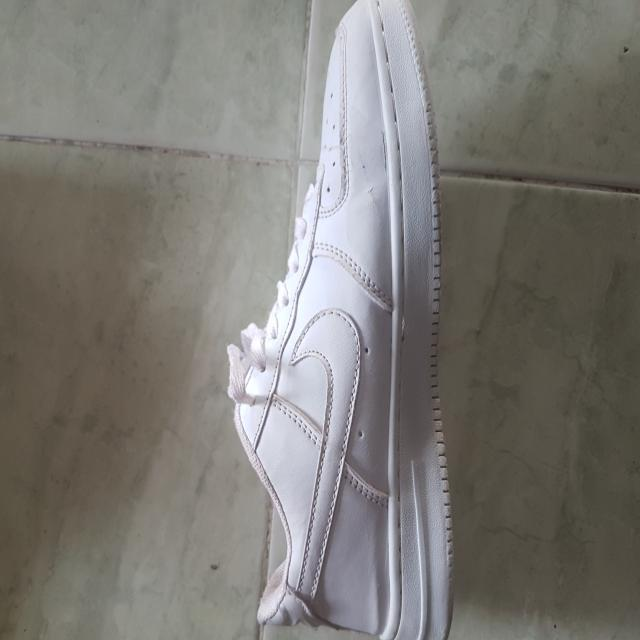nike fake air force: (228, 2, 458, 640)
